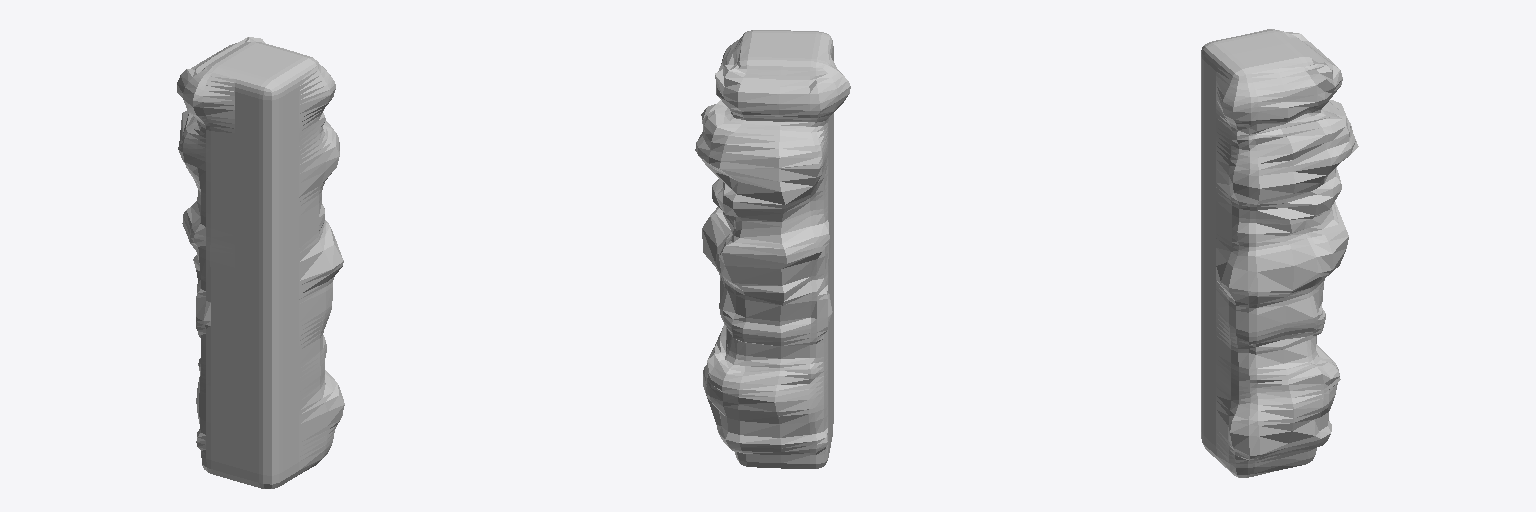
Rendered from env_level1_Canyon_Rock22.obj.
The picture shows the model from 3 angles: view 1: azimuth 30°, elevation 25°; view 2: azimuth 150°, elevation 25°; view 3: azimuth 270°, elevation 25°; orthographic projection.
Visible parts, largest first — view 1: rockwall_c07; view 2: rockwall_c07; view 3: rockwall_c07.
Boxes of the visible parts, box(x1,y1,x2,y2) form: rockwall_c07: box(177, 37, 344, 488); rockwall_c07: box(695, 30, 850, 468); rockwall_c07: box(1201, 29, 1358, 477).
Bounding box in the file's own units: 2850 × 7615 × 2670.